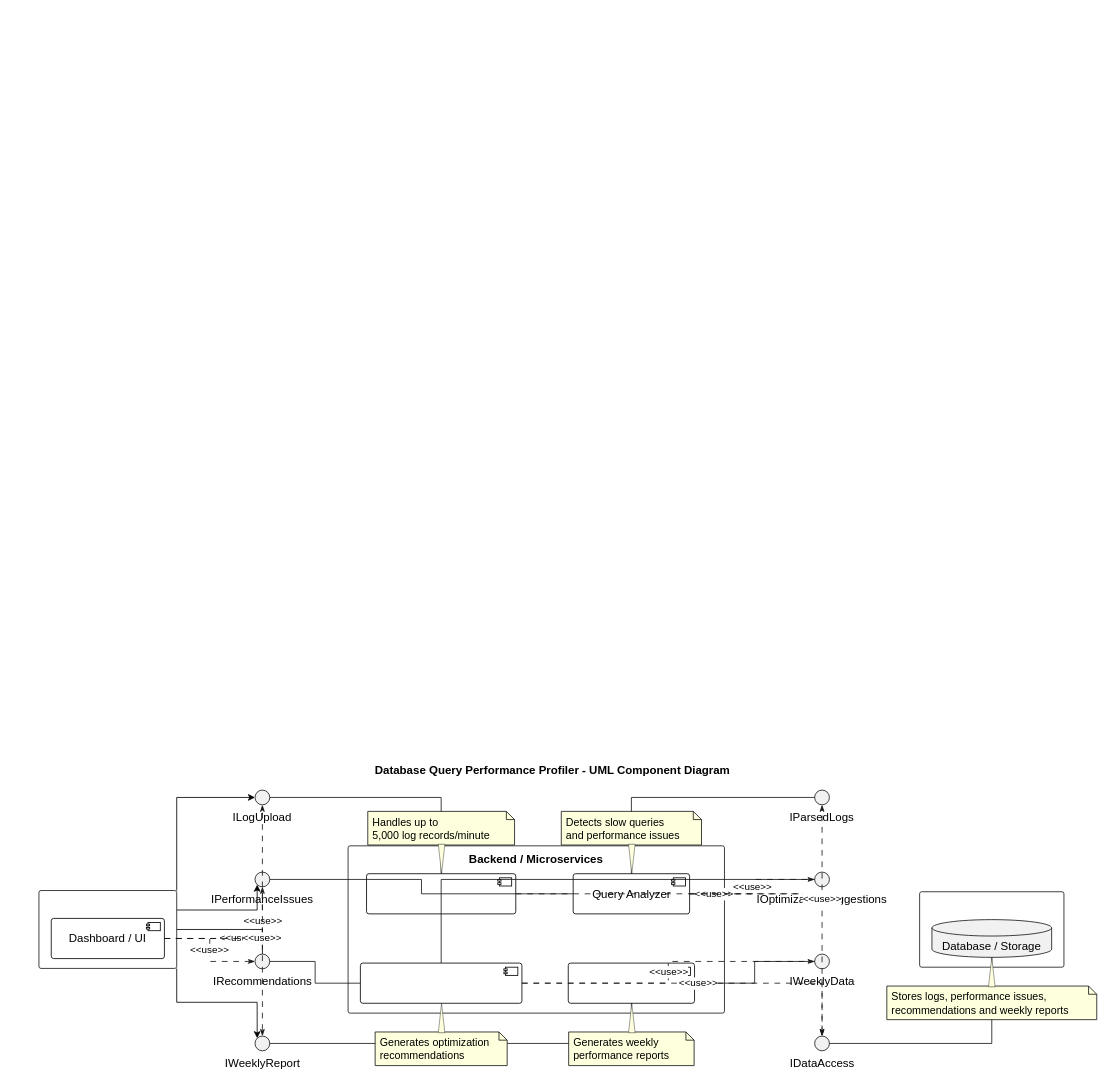
The diagram is 1111 pixels wide and 1084 high, and some of its shapes have lost their labels. Here are the shapes that lost their labels. From the top down, the box of each, then its label:
(366, 873, 516, 914): Log Ingestion Service
(38, 890, 177, 968): Client Layer
(919, 891, 1064, 967): Data Layer
(360, 962, 522, 1003): Recommendation Engine
(567, 962, 695, 1003): Report Generator
